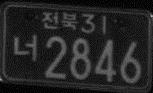1: (101, 13, 108, 37)
2: (44, 35, 67, 80)
3: (79, 12, 97, 34)
4: (94, 38, 119, 81)
6: (119, 40, 142, 84)
8: (69, 38, 91, 80)
너: (13, 32, 37, 63)
전북_O: (41, 10, 78, 31)
